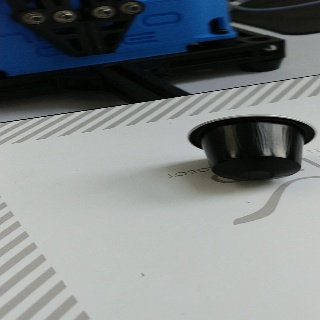capsule_10: (186, 112, 316, 181)
